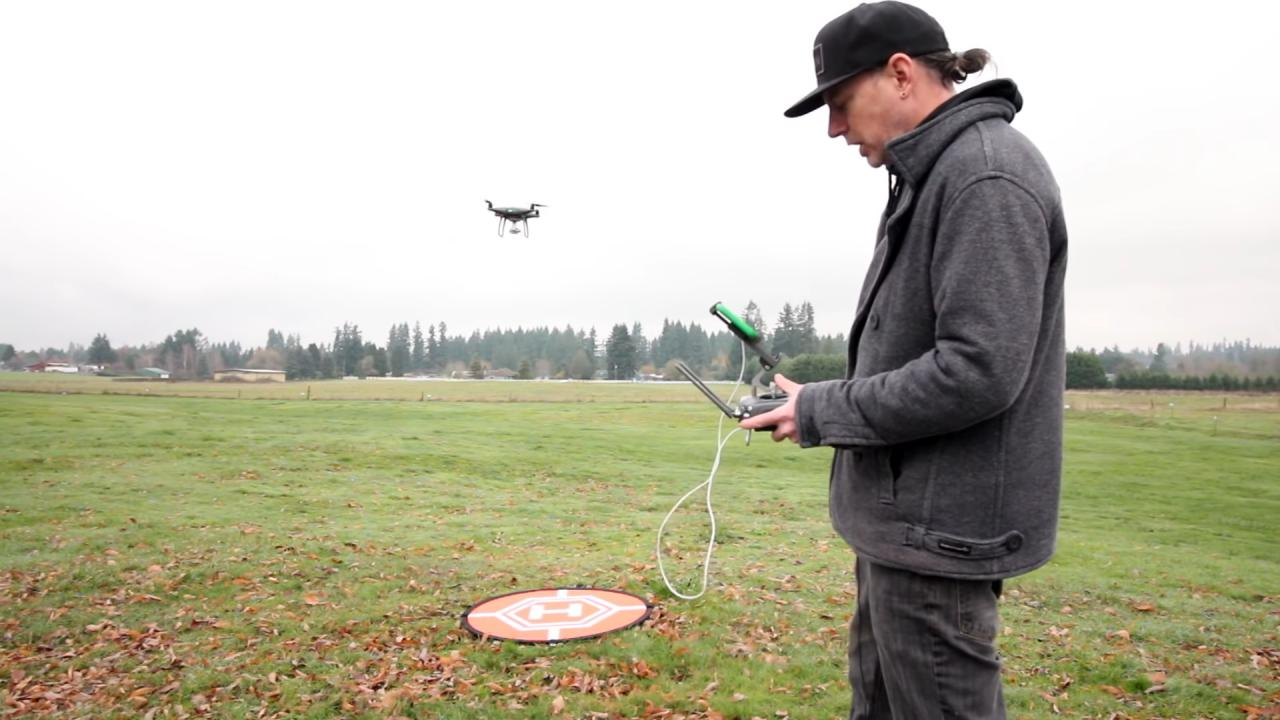Drone: (470, 189, 554, 245)
